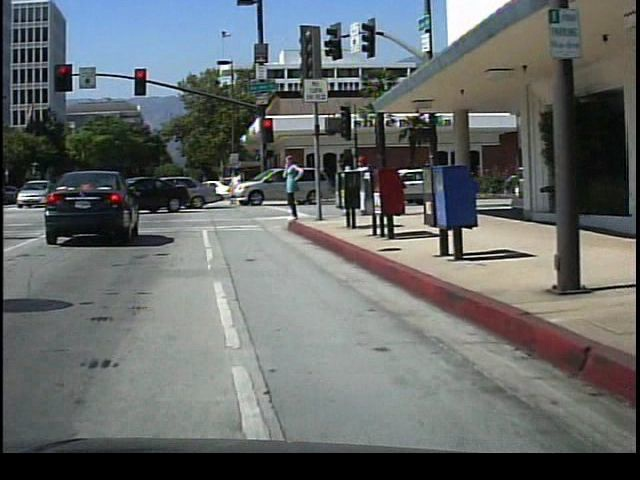person: (281, 150, 310, 223), (355, 152, 379, 217), (339, 151, 360, 216)
